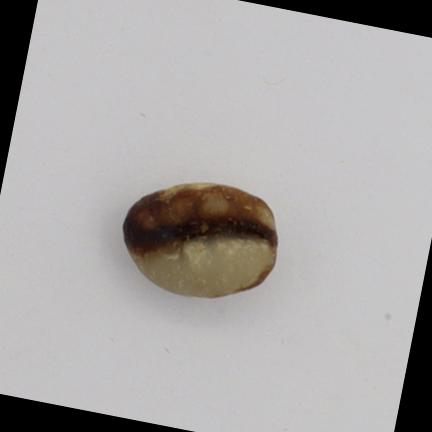partial-black: (124, 184, 278, 296)
